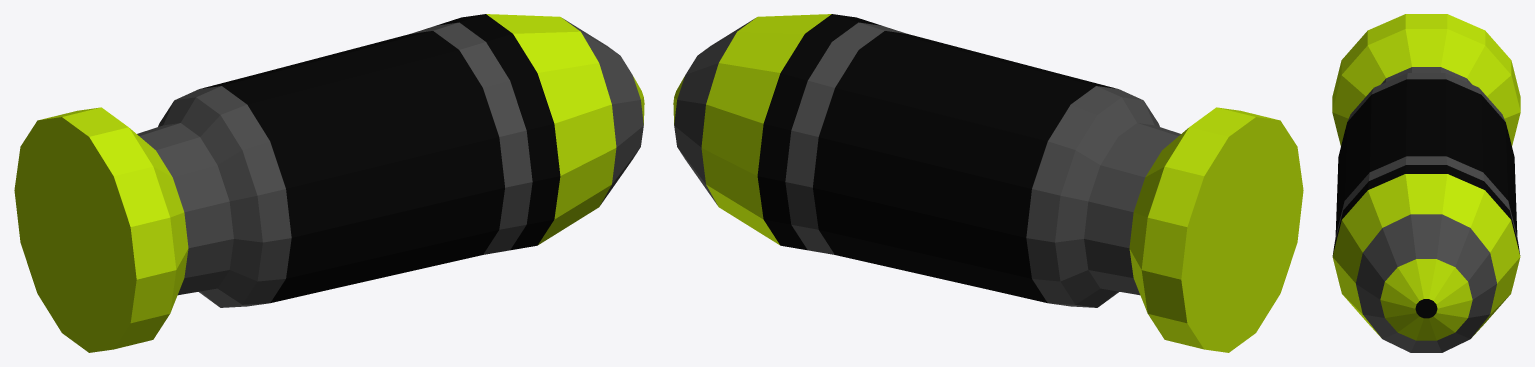
The model's file is bomb.fbx.
3 renders of one model, left to right at view 1: azimuth 30°, elevation 25°; view 2: azimuth 150°, elevation 25°; view 3: azimuth 270°, elevation 25°, orthographic. The views are drawn at different scales.
Parts seen in each view (by area): view 1: Cylinder; view 2: Cylinder; view 3: Cylinder.
Part boxes in pixels (box(x1,y1,x2,y2)): Cylinder: box(14, 14, 644, 352); Cylinder: box(673, 14, 1303, 352); Cylinder: box(1332, 14, 1520, 352).
Bounding box in the file's own units: 380 × 139 × 143.
